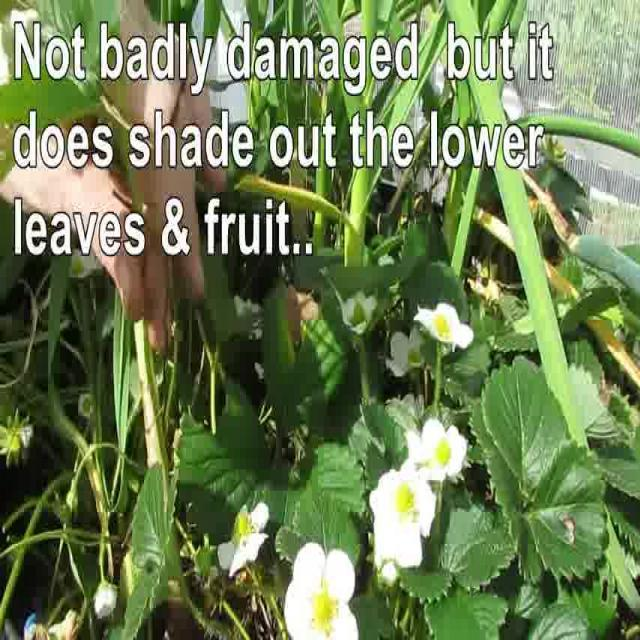Fruta sana: (197, 548, 214, 578), (351, 301, 366, 328)
